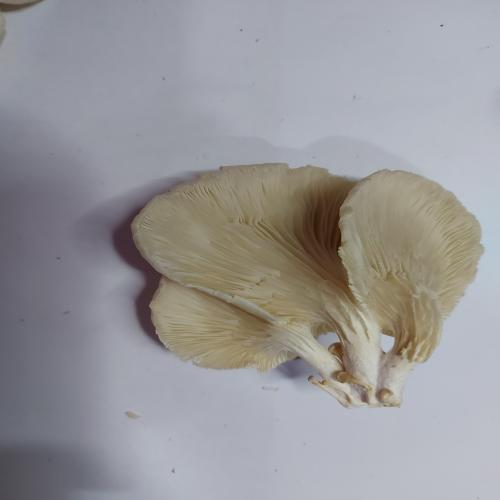Oyster Mushroom: (130, 161, 485, 410)
